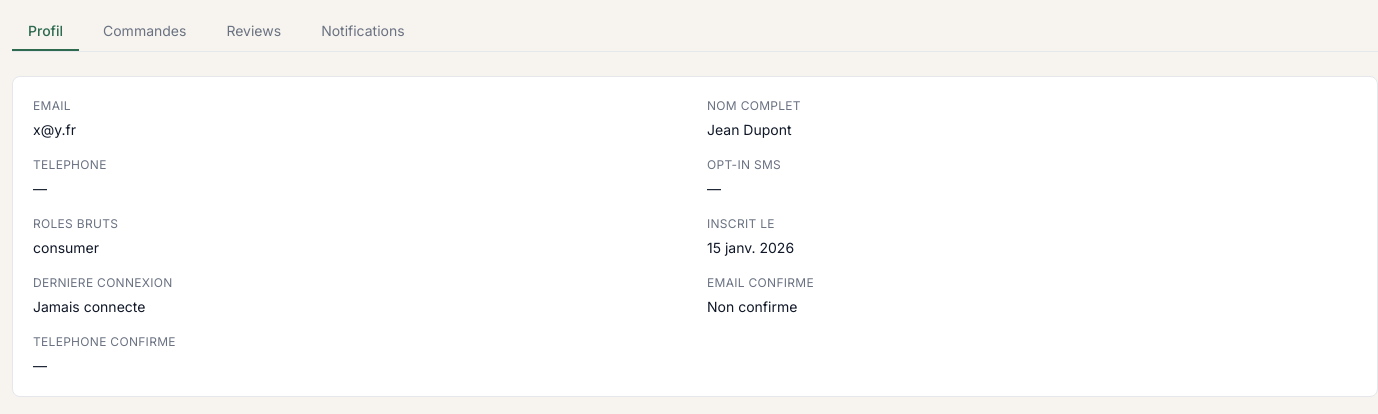
UserDetailTabs — clic onglet Commandes › clic Commandes avec orders=[] -> message 'Aucune commande'
Click the tab "Commandes". click: (145, 32)
box: [87, 12, 202, 51]
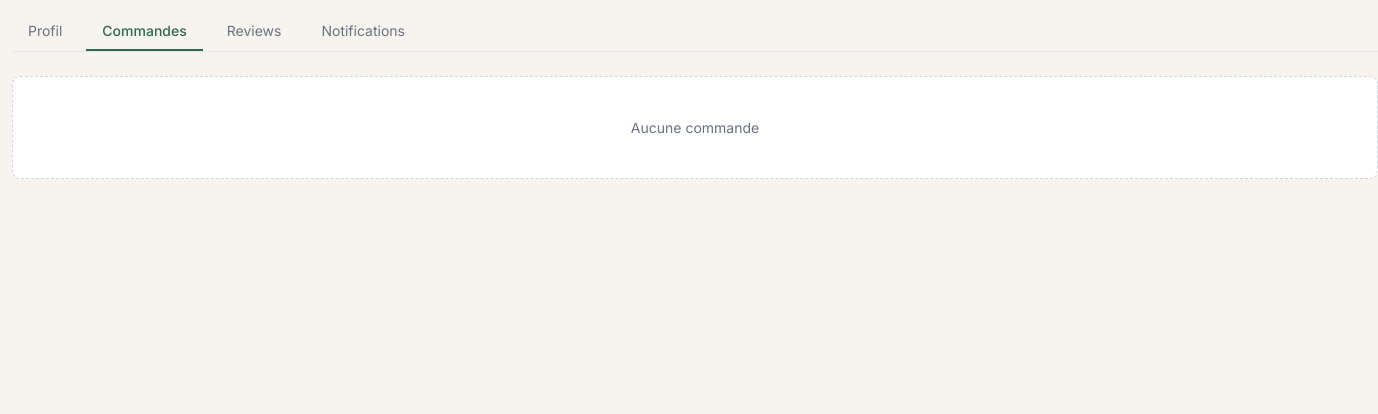
Expected: the text "Aucune commande" is shown, [12, 76, 1377, 179]
